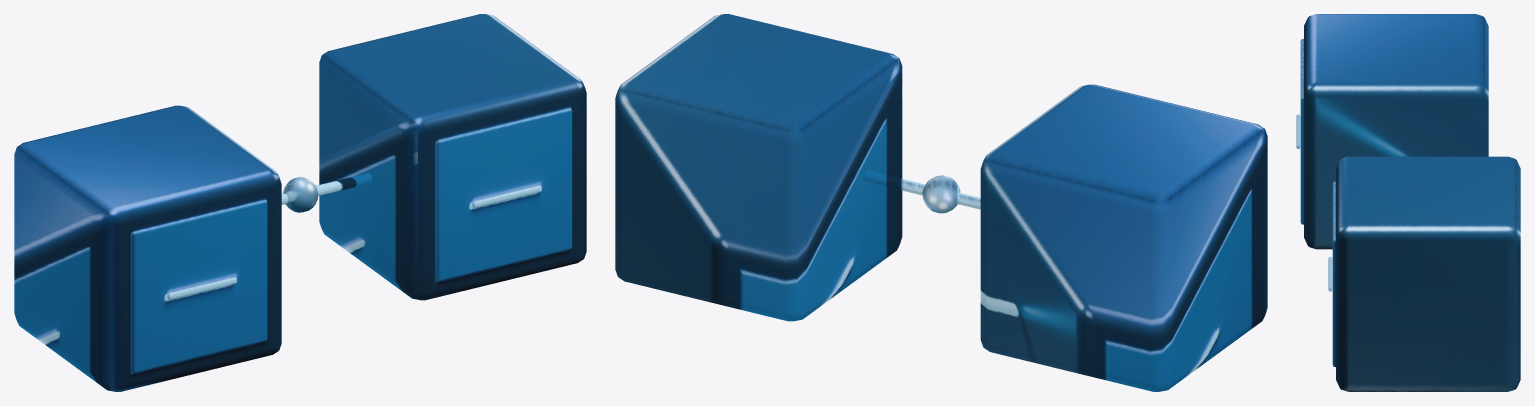
Rendered from integration-hero.glb.
3 views of the same model, side by side, from view 1: azimuth 30°, elevation 25°; view 2: azimuth 150°, elevation 25°; view 3: azimuth 270°, elevation 25° (orthographic). The views are drawn at different scales.
Visible parts, largest first — view 1: Connected system, Connected system.001, System face.001, System face, Sphere, Cylinder, System indicator.001, System indicator; view 2: Connected system, Connected system.001, Sphere, Cylinder; view 3: Connected system.001, Connected system, System face, System face.001.
Part boxes in pixels (x1=…): Connected system: x1=14, y1=105, x2=281, y2=391; Connected system.001: x1=319, y1=14, x2=586, y2=300; System face.001: x1=436, y1=108, x2=572, y2=281; System face: x1=131, y1=200, x2=267, y2=373; Sphere: x1=283, y1=177, x2=318, y2=212; Cylinder: x1=281, y1=173, x2=372, y2=204; System indicator.001: x1=472, y1=185, x2=541, y2=207; System indicator: x1=167, y1=277, x2=236, y2=299; Connected system: x1=980, y1=84, x2=1267, y2=391; Connected system.001: x1=615, y1=14, x2=902, y2=321; Sphere: x1=922, y1=175, x2=960, y2=213; Cylinder: x1=864, y1=170, x2=980, y2=209; Connected system.001: x1=1336, y1=156, x2=1520, y2=391; Connected system: x1=1304, y1=14, x2=1488, y2=249; System face: x1=1300, y1=39, x2=1303, y2=224; System face.001: x1=1332, y1=181, x2=1335, y2=366.
Size of the model in its own units: 3.25 by 1.15 by 1.4.
Materials: 1 (1 with a texture image).
